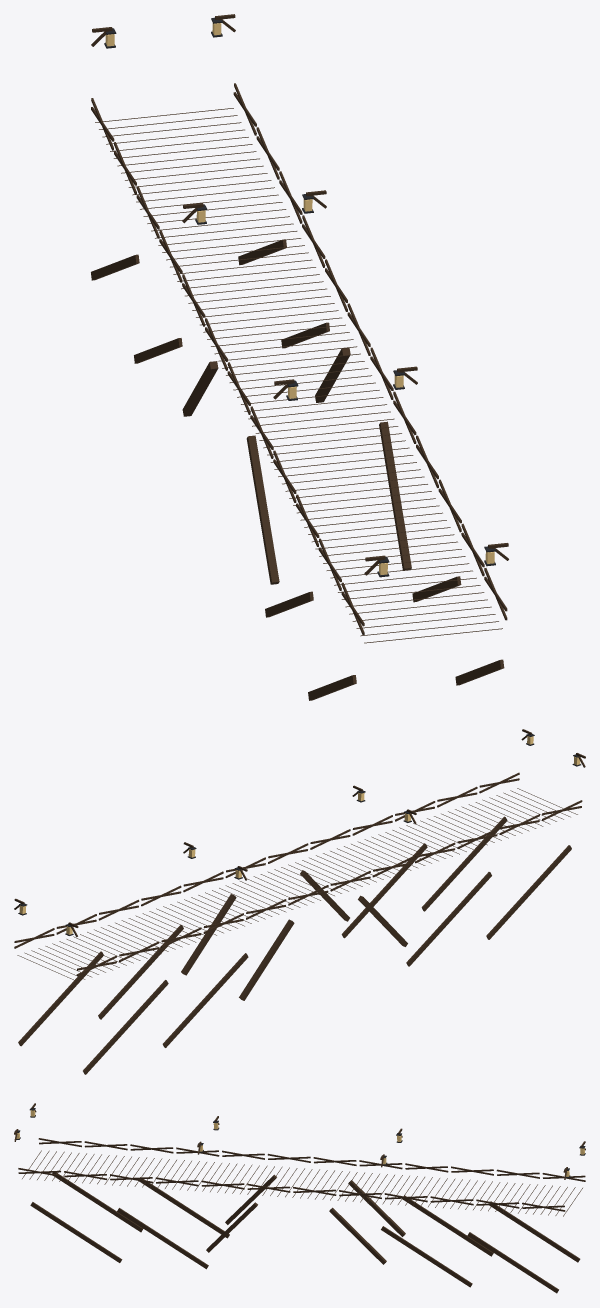
Rendered from SM_Bridge_ForestTrail2_NoCol.fbx.
3 renders of one model, top to bottom at view 1: azimuth 30°, elevation 25°; view 2: azimuth 150°, elevation 25°; view 3: azimuth 270°, elevation 25°, orthographic. The views are drawn at different scales.
Parts seen in each view (by area): view 1: SM_Bridge_ForestTrail2_NoCol; view 2: SM_Bridge_ForestTrail2_NoCol; view 3: SM_Bridge_ForestTrail2_NoCol.
Part boxes in pixels (bbox=[...]): SM_Bridge_ForestTrail2_NoCol: bbox=[91, 14, 508, 700]; SM_Bridge_ForestTrail2_NoCol: bbox=[14, 729, 585, 1074]; SM_Bridge_ForestTrail2_NoCol: bbox=[14, 1103, 585, 1293].
Size of the model in its own units: 9.51 by 6.61 by 23.51.
